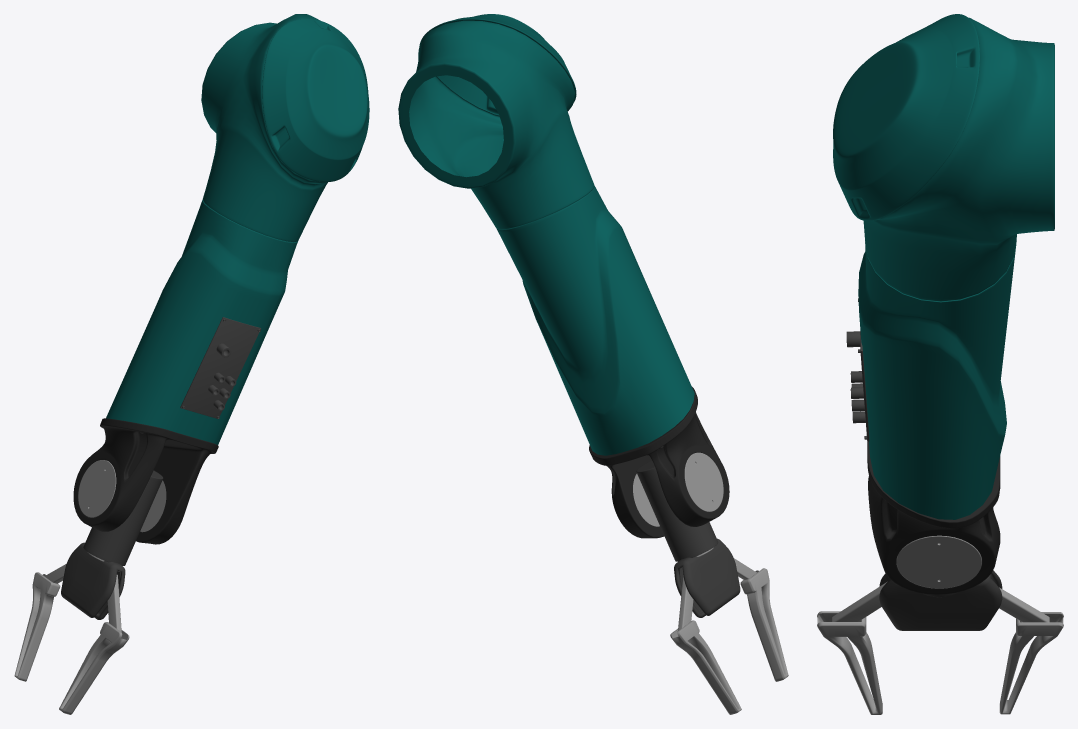
File: arm3.glb
The picture shows the model from 3 angles, left to right: view 1: azimuth 30°, elevation 25°; view 2: azimuth 150°, elevation 25°; view 3: azimuth 270°, elevation 25°; orthographic projection. The views are drawn at different scales.
Visible parts, largest first — view 1: Object_33, Object_27, Object_29, Object_31, Object_25, Object_23, Object_22, Object_18, Object_12; view 2: Object_33, Object_27, Object_29, Object_25, Object_23, Object_22, Object_18, Object_12; view 3: Object_33, Object_27, Object_29, Object_25, Object_22, Object_18, Object_12, Object_31, Object_20, Object_14.
Boxes of the visible parts, x1,y1,x2,y2 form: Object_33: (201,14,369,242); Object_27: (106,200,297,444); Object_29: (73,418,218,544); Object_31: (180,317,260,418); Object_25: (61,542,125,619); Object_23: (83,470,163,565); Object_22: (78,460,166,561); Object_18: (59,622,129,714); Object_12: (14,572,60,681); Object_33: (398,14,594,229); Object_27: (497,186,694,455); Object_29: (589,387,729,538); Object_25: (674,538,740,617); Object_23: (636,460,718,561); Object_22: (633,452,723,556); Object_18: (740,568,788,681); Object_12: (670,620,741,714); Object_33: (833,14,1054,301); Object_27: (858,242,1016,519); Object_29: (867,441,1000,594); Object_25: (879,570,1002,630); Object_22: (896,535,981,588); Object_18: (817,611,882,714); Object_12: (999,612,1063,714); Object_31: (846,298,869,441); Object_20: (832,581,887,621); Object_14: (999,587,1049,622).
Bounding box in the file's own units: 0.8114 × 1.42 × 0.365.
